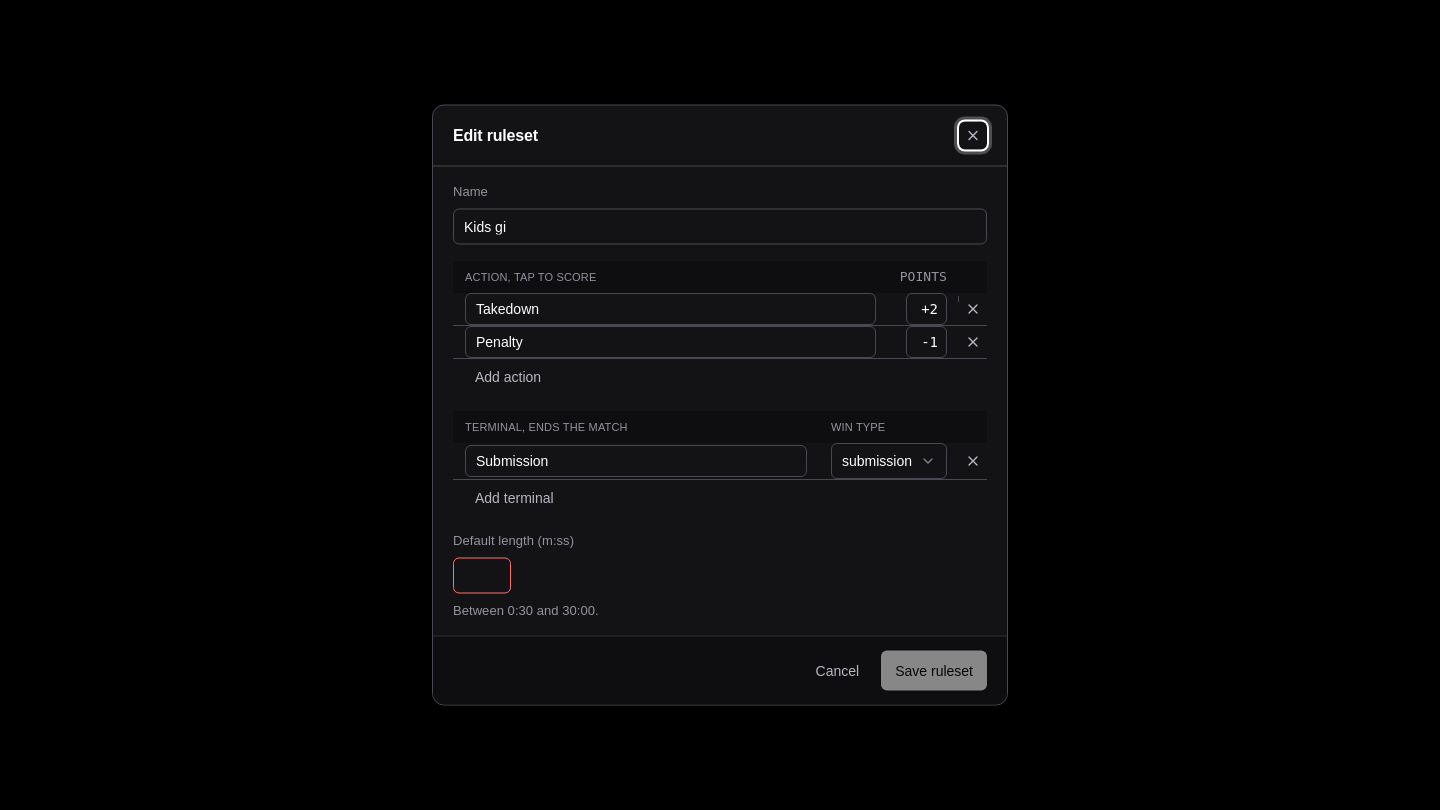
Scenario: RulesetDialog › still removes a word while every match under the ruleset is pending
The width and height of the screenshot is (1440, 810).
Click the button named "Remove Penalty" at (973, 342), box 959,328 -> 987,356
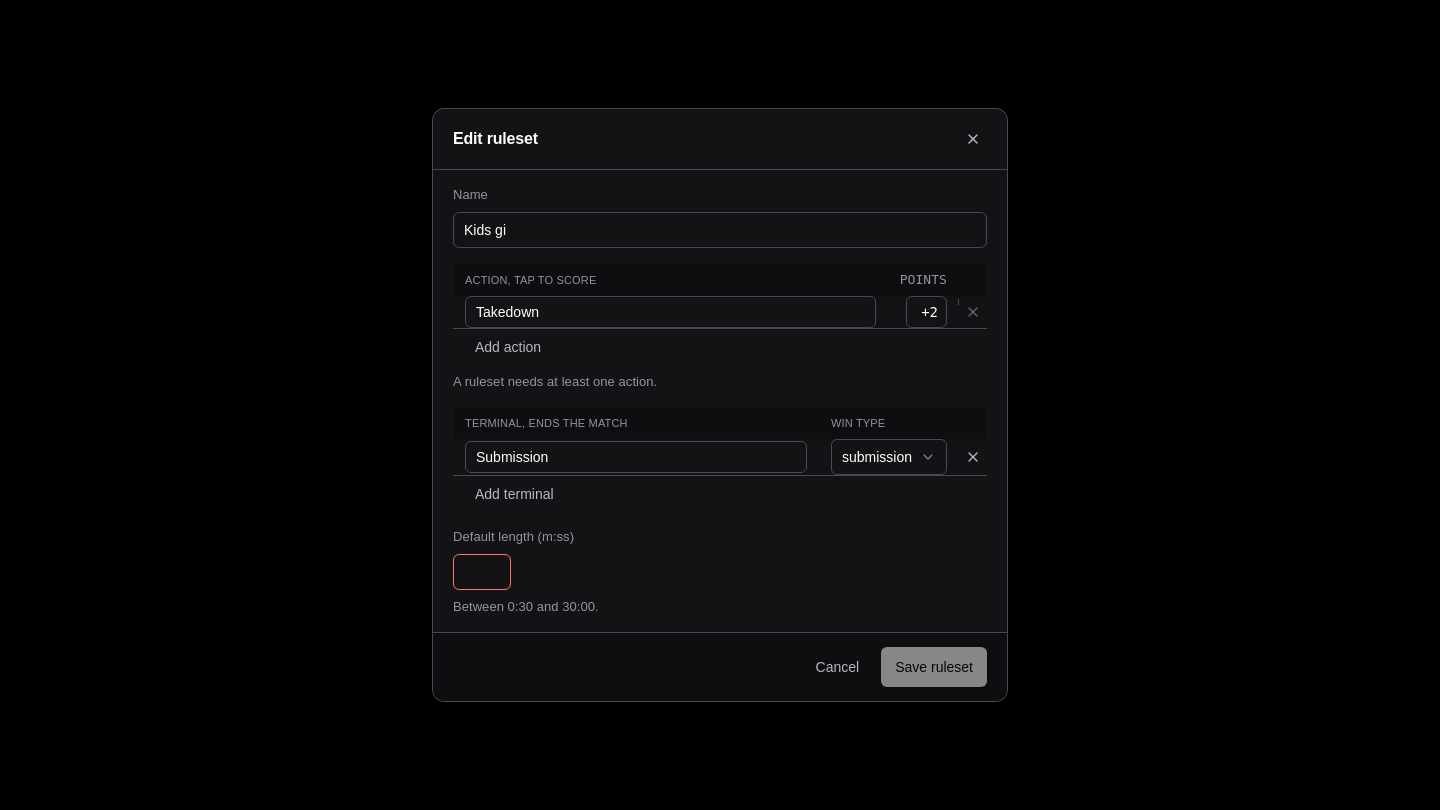
Now the number of fields named "Action points" is 1, box 906,296 -> 947,328
